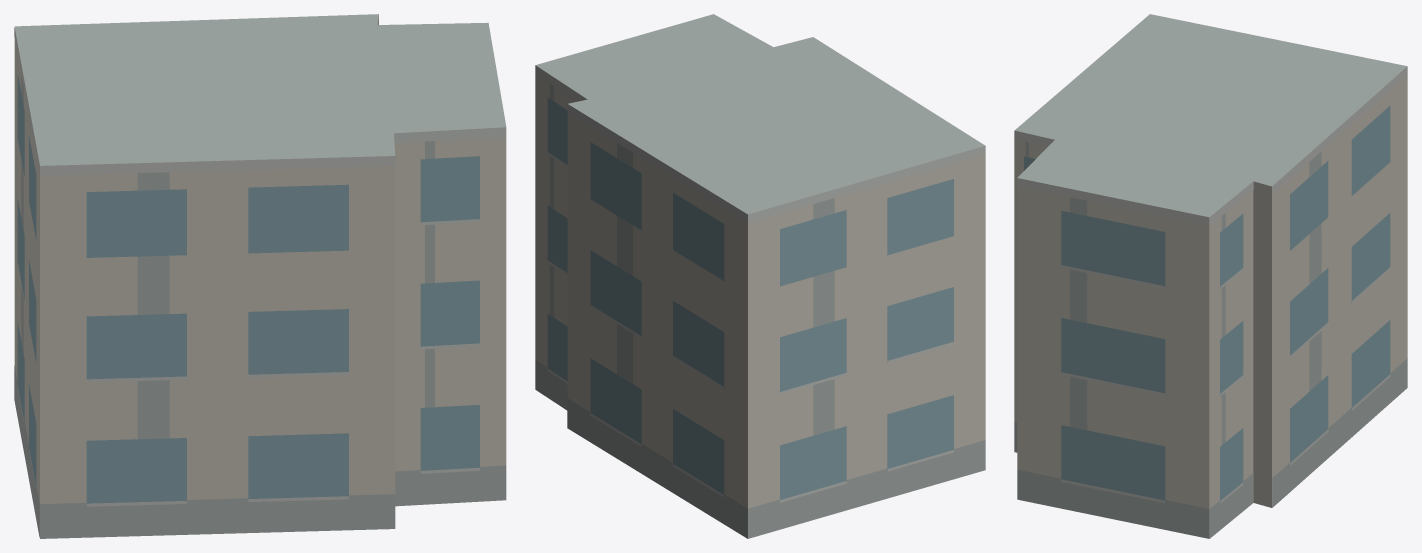
Rendered from survey-upis-32662233.glb.
3 renders of one model, left to right at view 1: azimuth 30°, elevation 25°; view 2: azimuth 150°, elevation 25°; view 3: azimuth 270°, elevation 25°, orthographic. The views are drawn at different scales.
Parts seen in each view (by area): view 1: survey-upis-32662233.tmp; view 2: survey-upis-32662233.tmp; view 3: survey-upis-32662233.tmp.
Boxes of the visible parts, box(x1,y1,x2,y2) form: survey-upis-32662233.tmp: box(14, 14, 506, 538); survey-upis-32662233.tmp: box(535, 14, 985, 538); survey-upis-32662233.tmp: box(1014, 14, 1407, 538).
Bounding box in the file's own units: 12.41 × 9.15 × 10.15.
